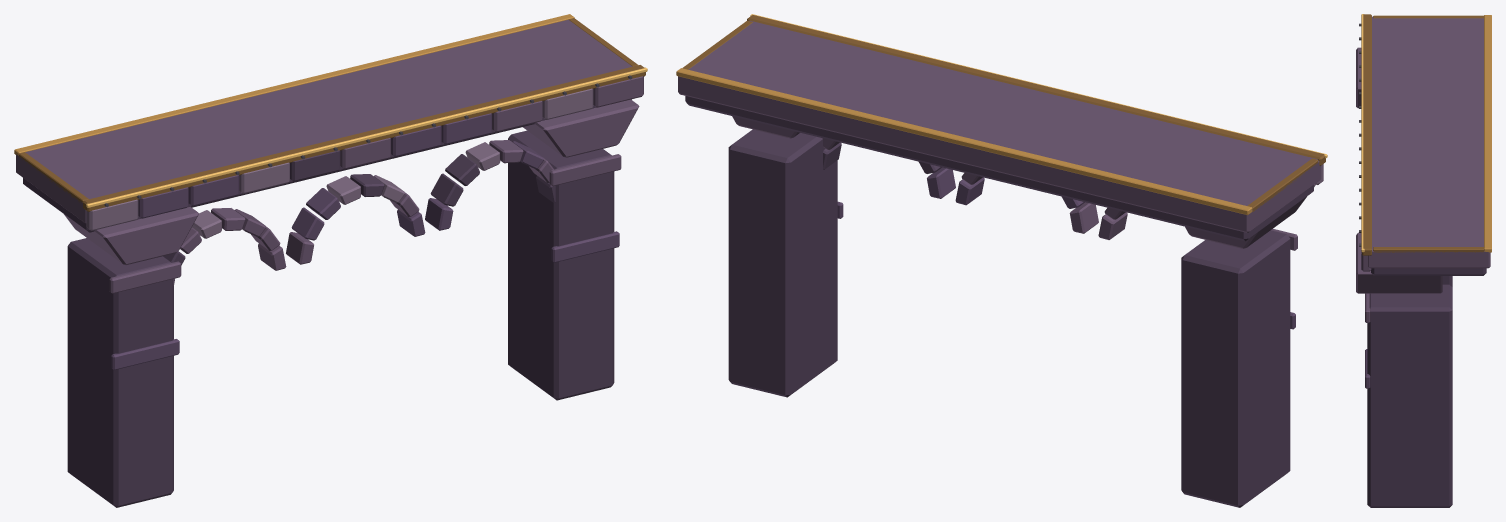
File: SM_Vault_RetakeDeck_01.fbx
3 renders of one model, left to right at view 1: azimuth 30°, elevation 25°; view 2: azimuth 150°, elevation 25°; view 3: azimuth 270°, elevation 25°, orthographic. The views are drawn at different scales.
Visible parts, largest first — view 1: SM_Vault_RetakeDeck_01; view 2: SM_Vault_RetakeDeck_01; view 3: SM_Vault_RetakeDeck_01.
Boxes of the visible parts, bbox=[...] form: SM_Vault_RetakeDeck_01: bbox=[14, 14, 647, 507]; SM_Vault_RetakeDeck_01: bbox=[676, 14, 1327, 507]; SM_Vault_RetakeDeck_01: bbox=[1356, 14, 1491, 507].
Bounding box in the file's own units: 831 × 203 × 447.
